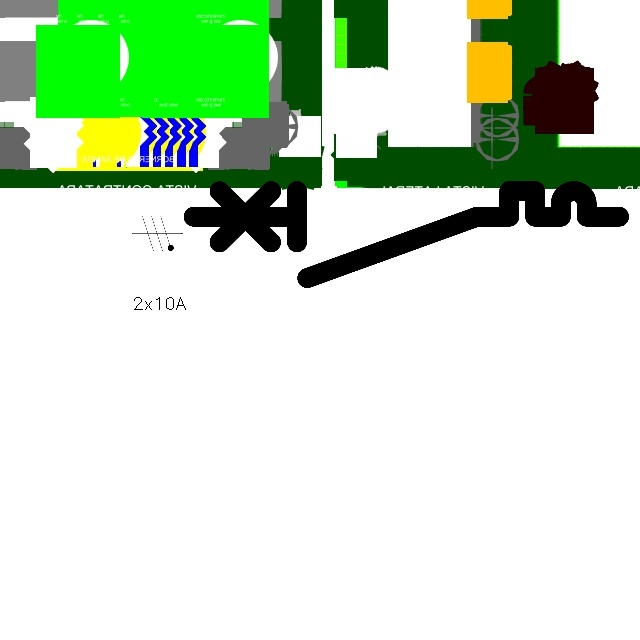interruptor_termomagnetico: (182, 180, 630, 289)
